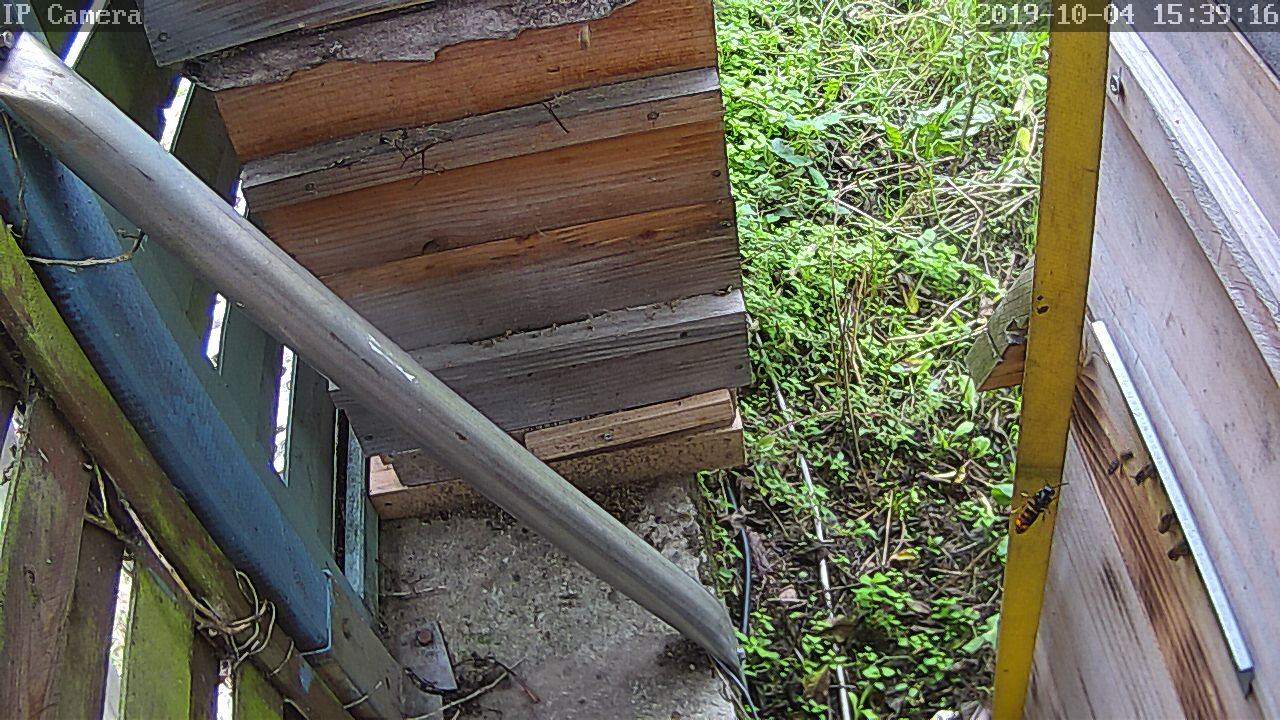bee: (1107, 447, 1159, 486), (1161, 530, 1193, 562), (1152, 509, 1189, 536)
hornet: (1011, 478, 1063, 535)
